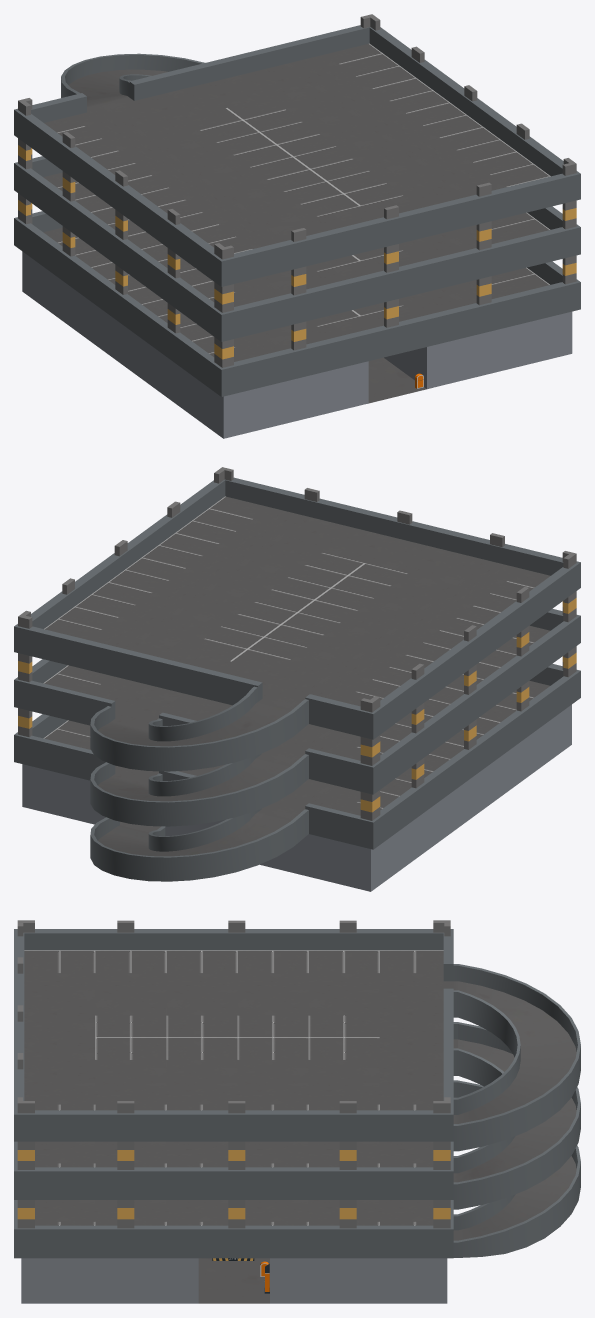
Rendered from SM_Buildings_Parking_01.fbx.
The picture shows the model from 3 angles, top to bottom: view 1: azimuth 30°, elevation 25°; view 2: azimuth 150°, elevation 25°; view 3: azimuth 270°, elevation 25°; orthographic projection. The views are drawn at different scales.
Visible parts, largest first — view 1: SM_Buildings_Parking_01; view 2: SM_Buildings_Parking_01; view 3: SM_Buildings_Parking_01.
Boxes of the visible parts, <box> form: SM_Buildings_Parking_01: <box>14,14,580,438</box>; SM_Buildings_Parking_01: <box>14,467,580,891</box>; SM_Buildings_Parking_01: <box>14,920,580,1303</box>.
Size of the model in its own units: 30.93 by 15.68 by 39.9.
